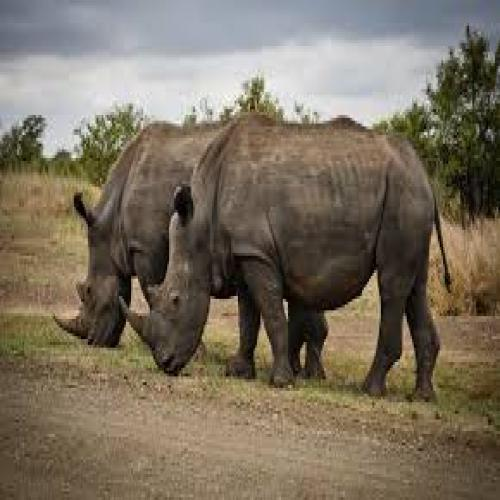rhino-endangered: (119, 110, 452, 408), (52, 118, 330, 385)
